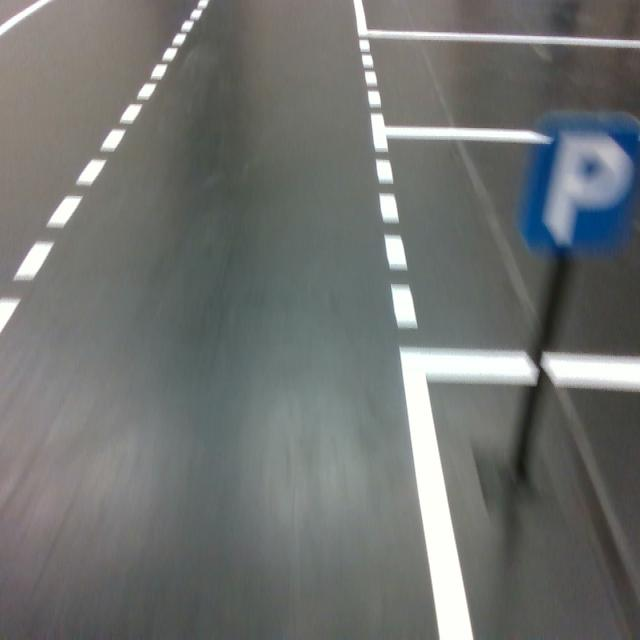parking-sign: (513, 107, 640, 257)
